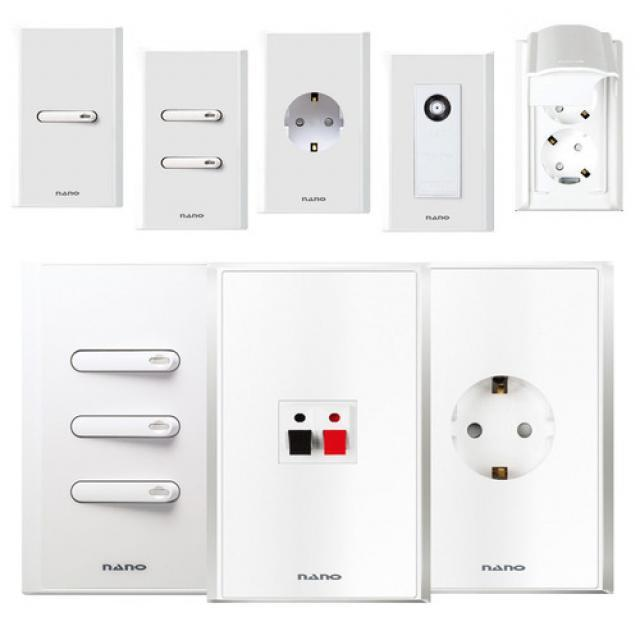typeb: (265, 59, 365, 188), (430, 339, 433, 342)
